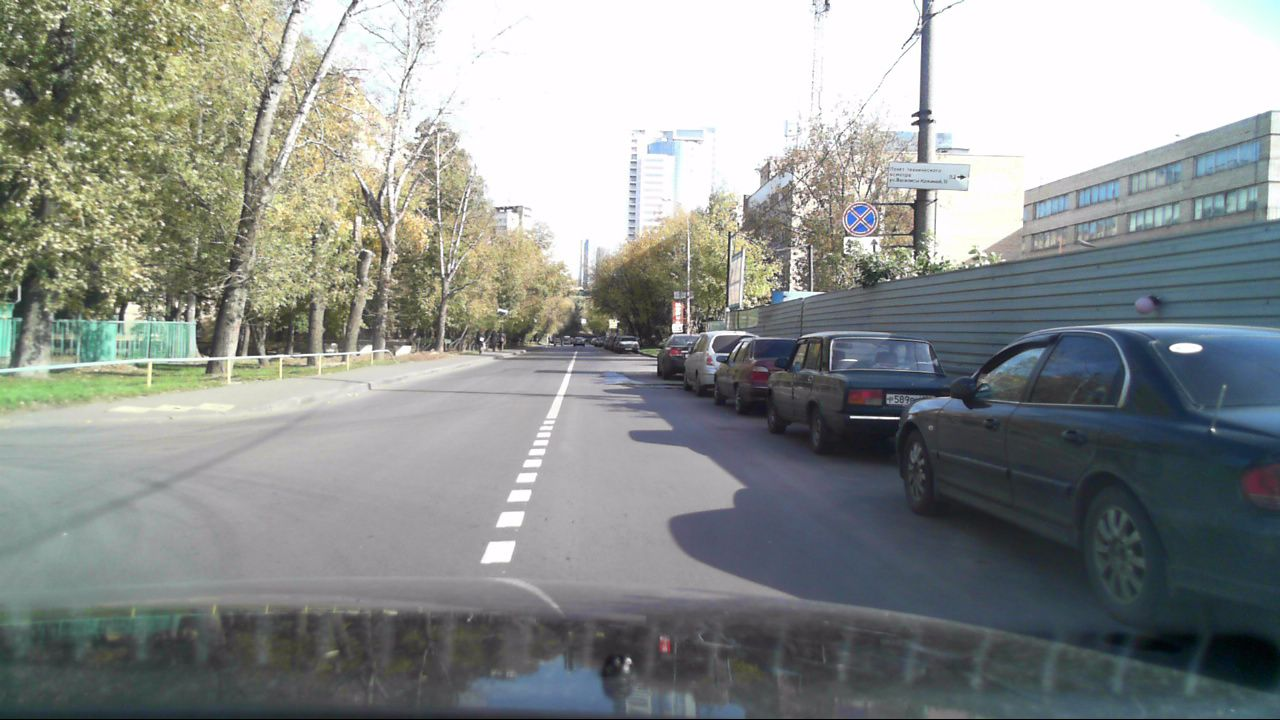No Parking: (841, 201, 879, 237)
